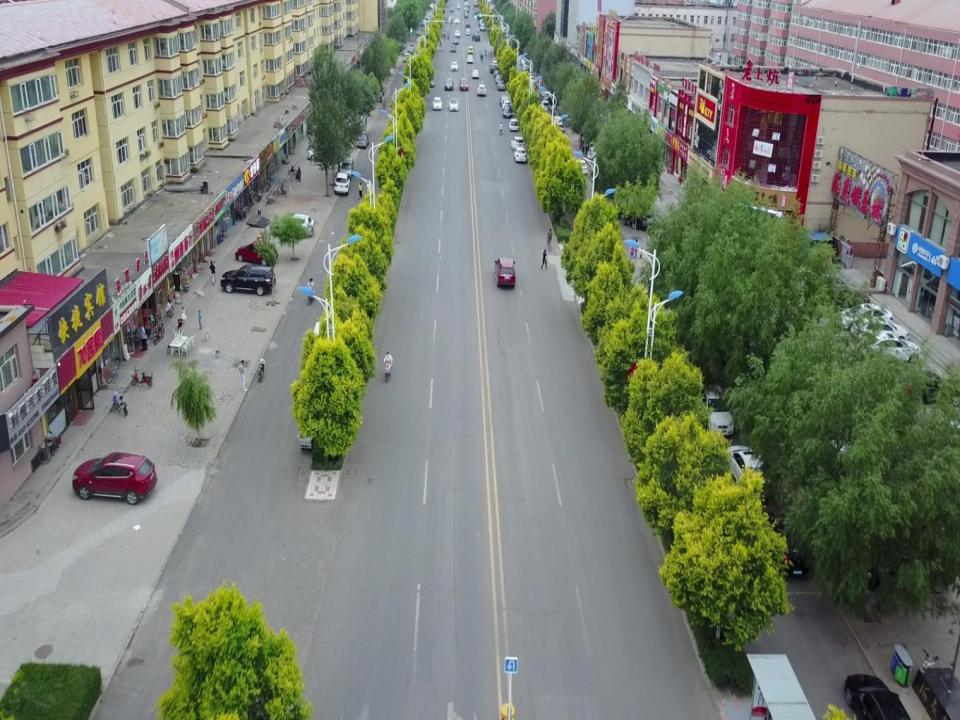car: (71, 452, 158, 504), (758, 504, 812, 579), (843, 671, 914, 720), (726, 443, 782, 499), (893, 363, 960, 405), (625, 342, 678, 385), (801, 274, 871, 306), (858, 332, 924, 364), (701, 383, 738, 437), (220, 262, 276, 296), (851, 315, 917, 343), (836, 305, 893, 329), (234, 241, 280, 266), (270, 212, 314, 235), (629, 212, 675, 229), (494, 257, 516, 288), (129, 363, 153, 388), (306, 147, 344, 161), (587, 146, 620, 161), (333, 171, 350, 194), (582, 142, 614, 154), (137, 325, 147, 352), (573, 158, 587, 176), (510, 136, 526, 150), (374, 64, 394, 75), (539, 90, 560, 100), (515, 147, 526, 163), (543, 94, 560, 104), (155, 323, 164, 340), (431, 97, 443, 109), (498, 94, 509, 106), (552, 114, 563, 126), (539, 99, 550, 111), (448, 98, 458, 111), (502, 100, 512, 113), (508, 118, 518, 130), (444, 78, 454, 90), (459, 78, 469, 90), (502, 104, 512, 116), (426, 78, 436, 88), (477, 84, 486, 95), (495, 74, 504, 84), (406, 44, 414, 55), (471, 69, 480, 78), (493, 69, 502, 78), (558, 126, 567, 135), (403, 53, 412, 62), (450, 61, 458, 71), (497, 80, 505, 90), (489, 63, 497, 73), (466, 45, 474, 53), (466, 55, 473, 63), (450, 43, 457, 51), (492, 59, 498, 67), (492, 57, 498, 63)
van: (578, 129, 609, 145), (339, 156, 353, 178), (355, 131, 368, 149), (368, 76, 385, 88)
